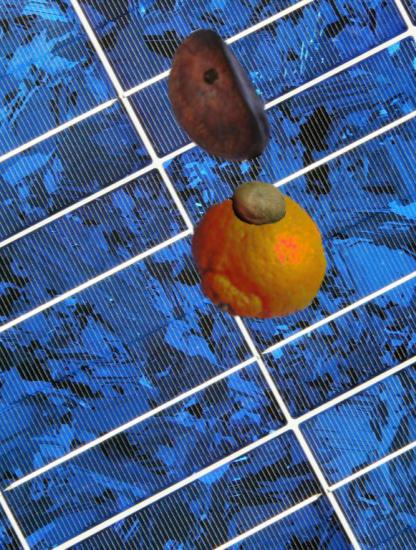Chestnut: (146, 27, 287, 168)
Mandarine: (189, 188, 328, 327)
Papaya: (229, 174, 288, 233)
